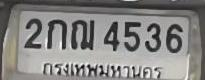2: (23, 17, 41, 48)
3: (144, 22, 160, 51)
4: (103, 20, 118, 50)
5: (123, 21, 140, 51)
6: (165, 23, 182, 52)
A01: (46, 18, 66, 49)
A12: (70, 18, 94, 50)
BKK: (40, 59, 165, 80)
